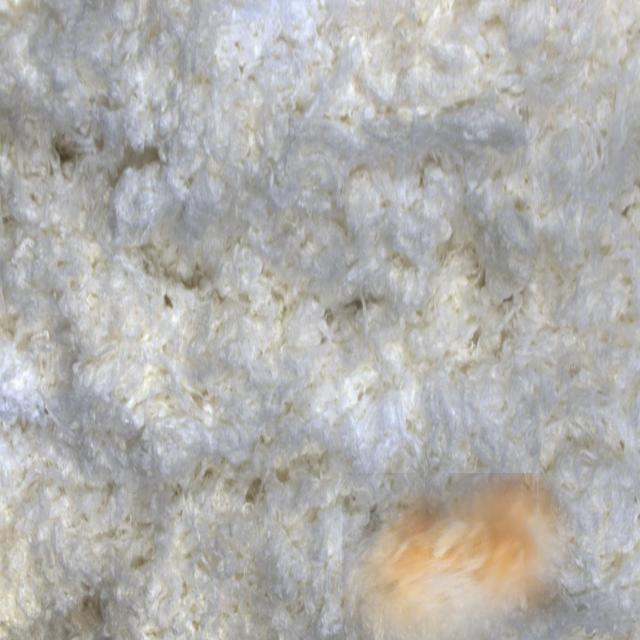dust: (342, 473, 576, 640)
